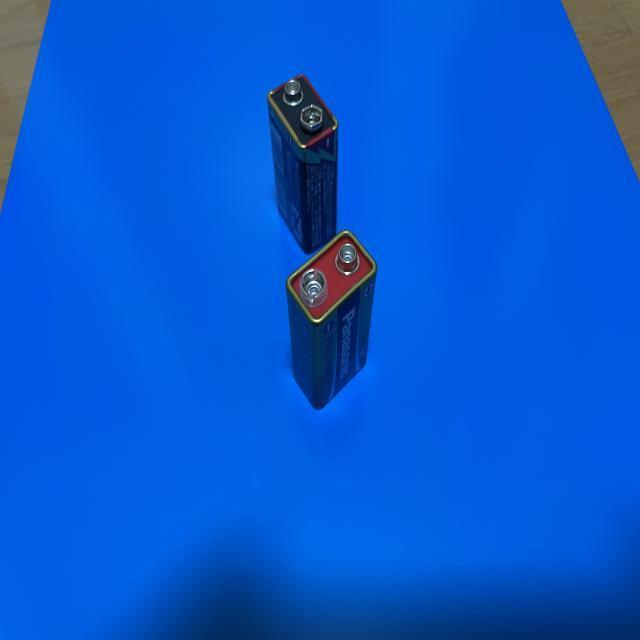9V: (285, 229, 378, 410), (266, 72, 339, 253)
